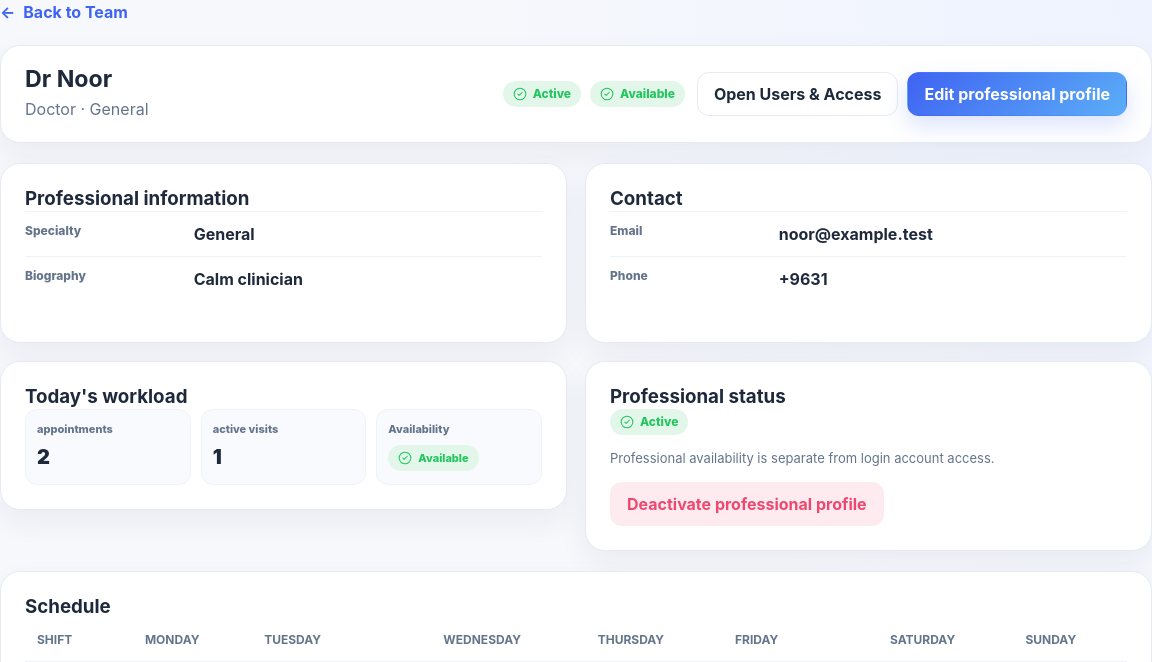
Test case: Team professional directory and detail › saves only Doctor professional fields with version and returns to updated read mode
Click the button "Edit professional profile".
click(1017, 94)  # box [908,72,1127,116]
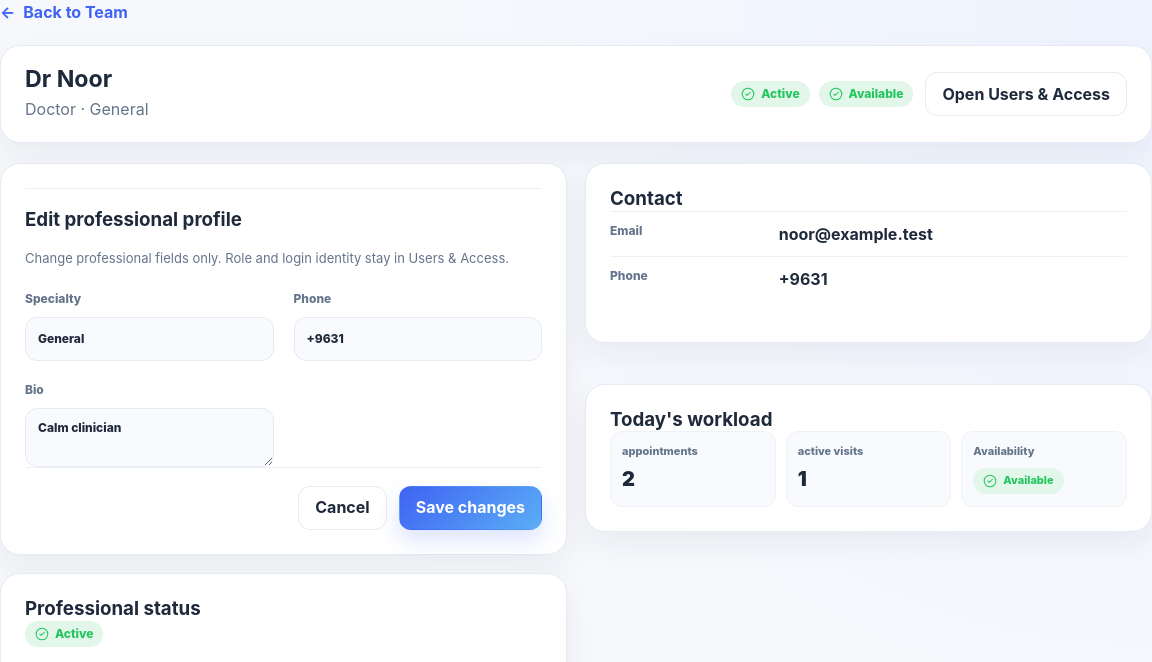
Replace the text in the field labelled "Specialty" with "Orthodontics" at (149, 339), box [25,317,274,361]
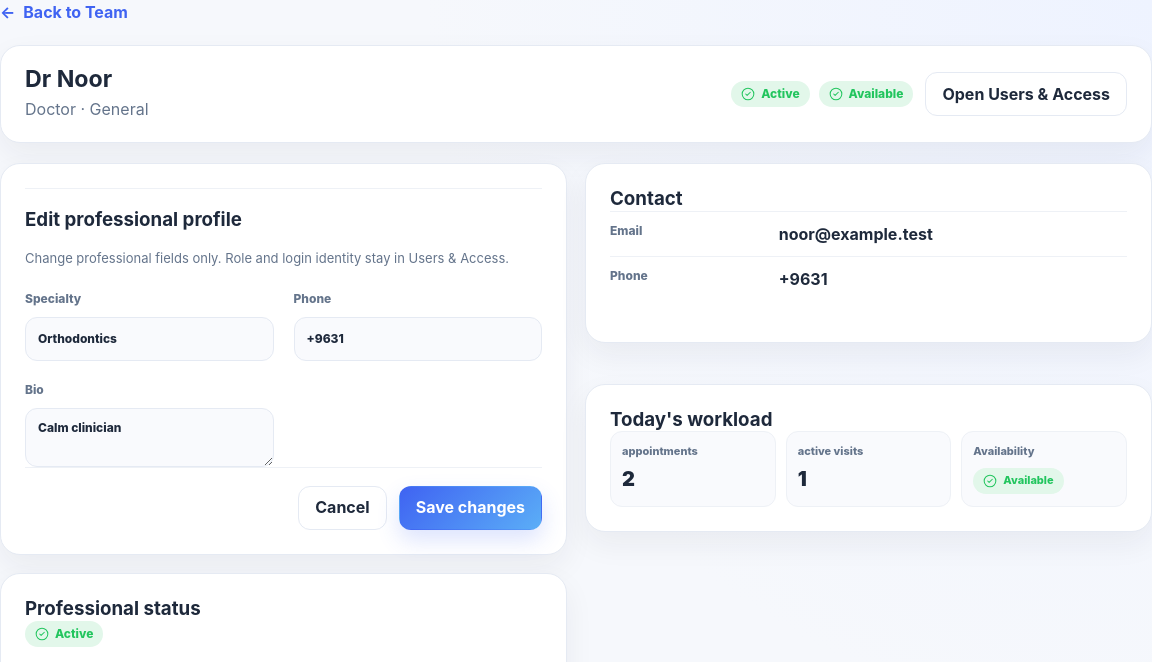
Replace the text in the field labelled "Phone" with "+9639" at (418, 339), box [294,317,542,361]
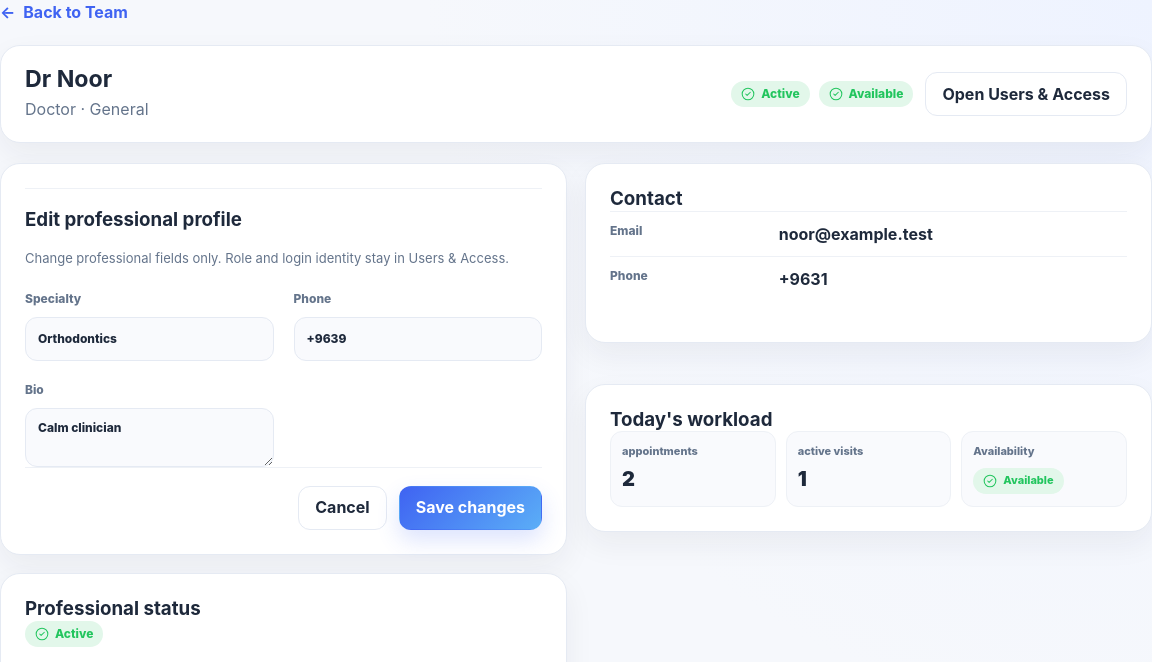
Replace the text in the text box labelled "Bio" with "Updated bio" at (149, 437), box [25,408,274,467]
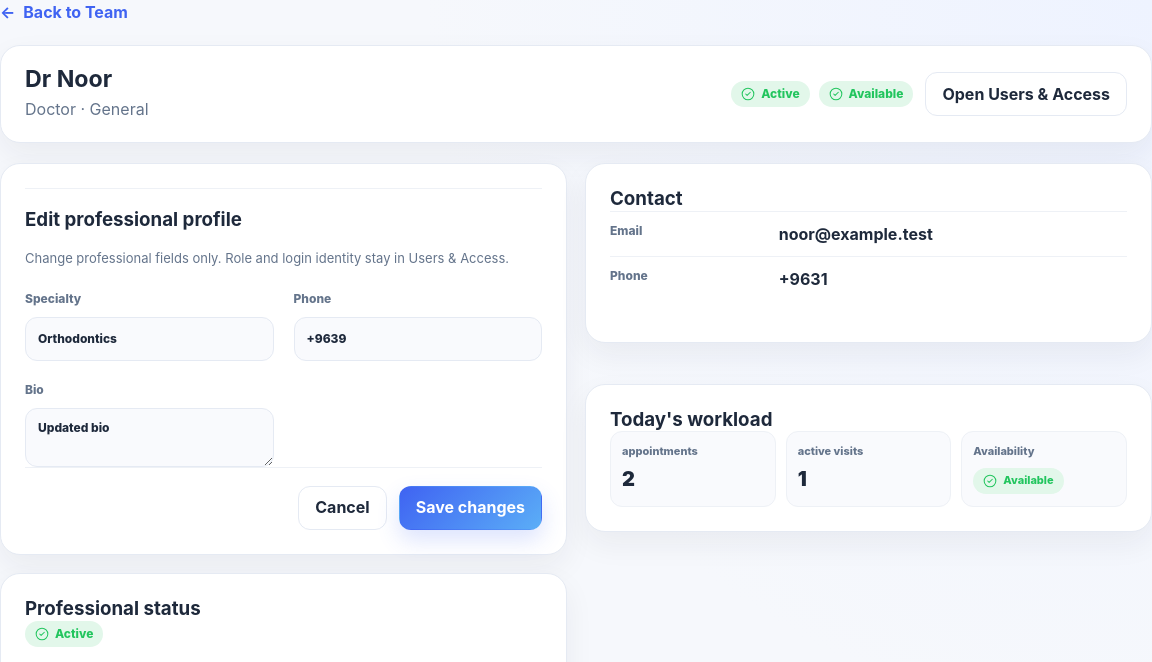
Click the button "Save changes".
click(470, 508)  # box [399,486,542,530]
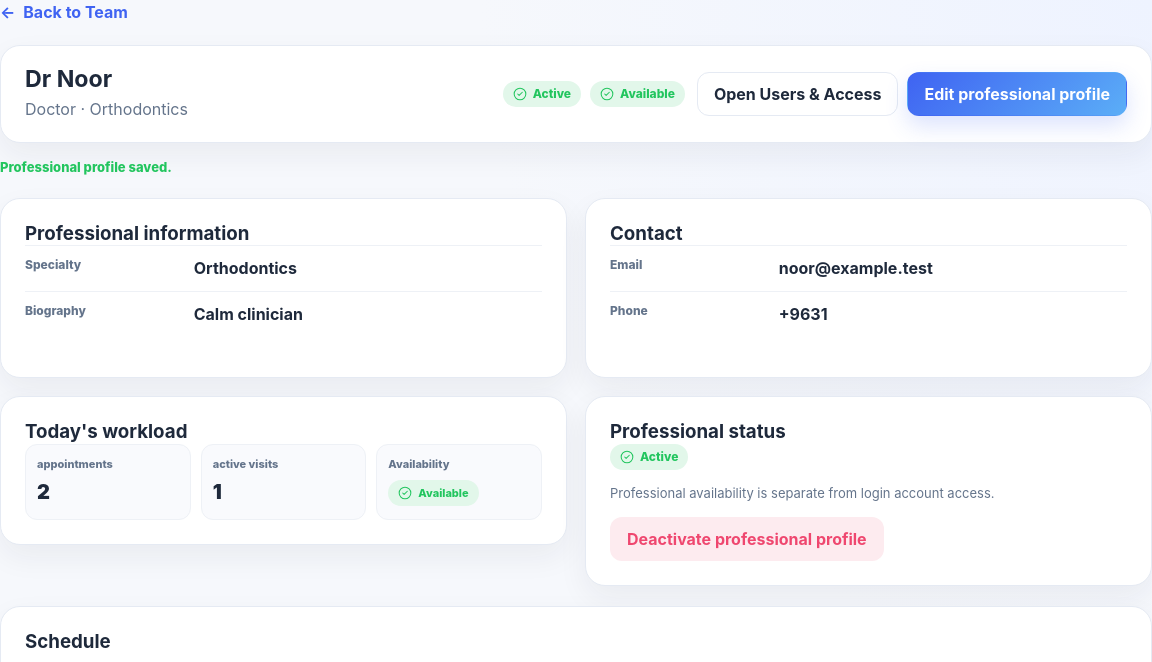
Result: the text "Orthodontics" is shown at [194,258,297,278]
Result: the text "Professional profile saved." is shown at [0,159,172,175]
